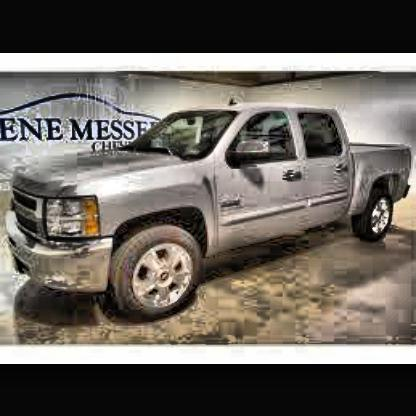Chevrolet Silverado 1500 Hybrid Crew Cab 2012: (11, 101, 415, 325)
